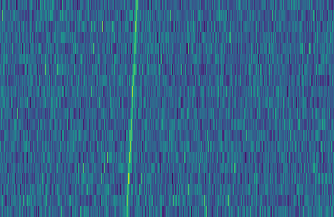signal: (121, 0, 141, 217)
